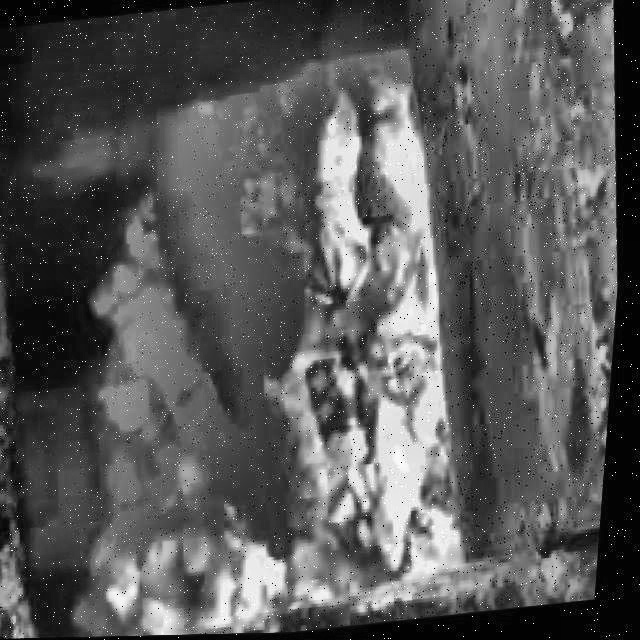Fire: (49, 95, 501, 638)
